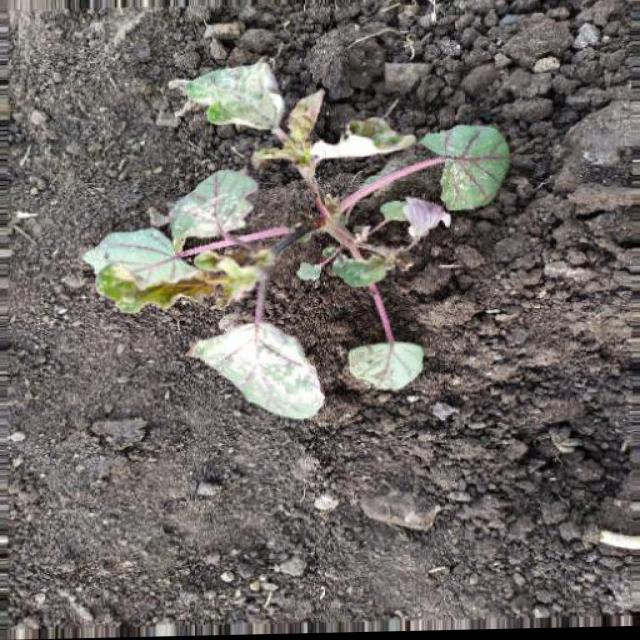weed: (76, 56, 515, 424)
